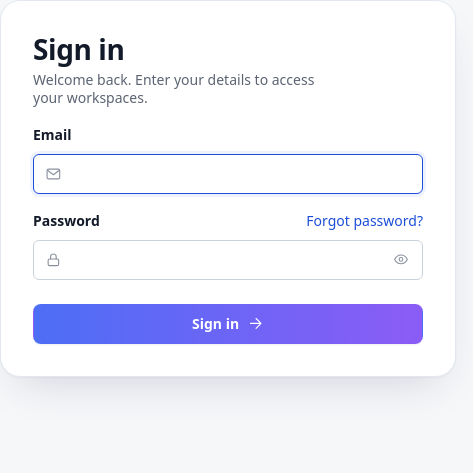
LoginForm › shows a friendly error and stays on the form when the credentials are rejected
Type "owner@example.com" into the field labelled "Email" at {"x": 228, "y": 174}, box [33, 154, 423, 194]
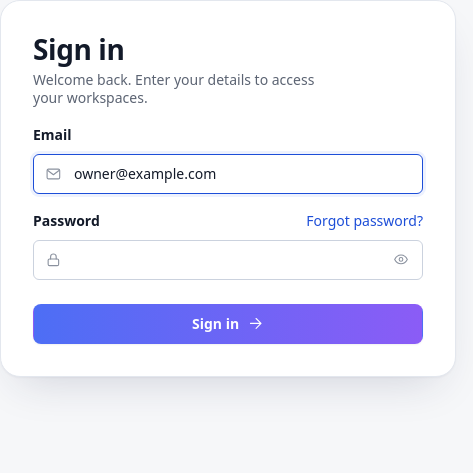
Type "wrongpassword" into the password field labelled "Password" at {"x": 228, "y": 260}, box [33, 240, 423, 280]
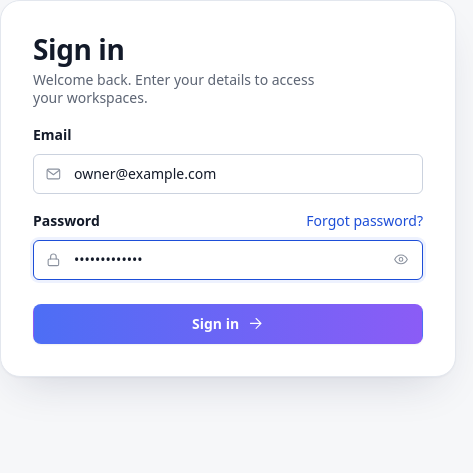
Click the button "Sign in" at {"x": 228, "y": 324}, box [33, 304, 423, 344]
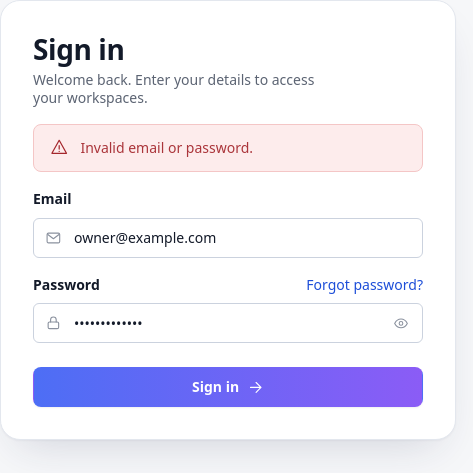
expect the message reads "Invalid email or password.": met, box [80, 138, 253, 157]
